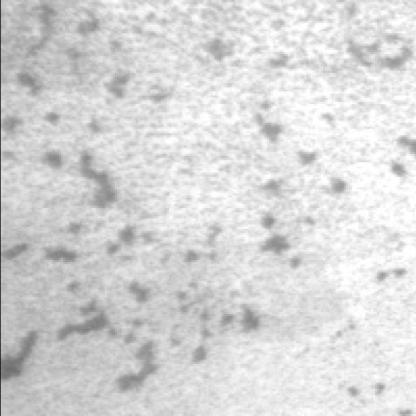pitted_surface: (0, 15, 378, 395)
